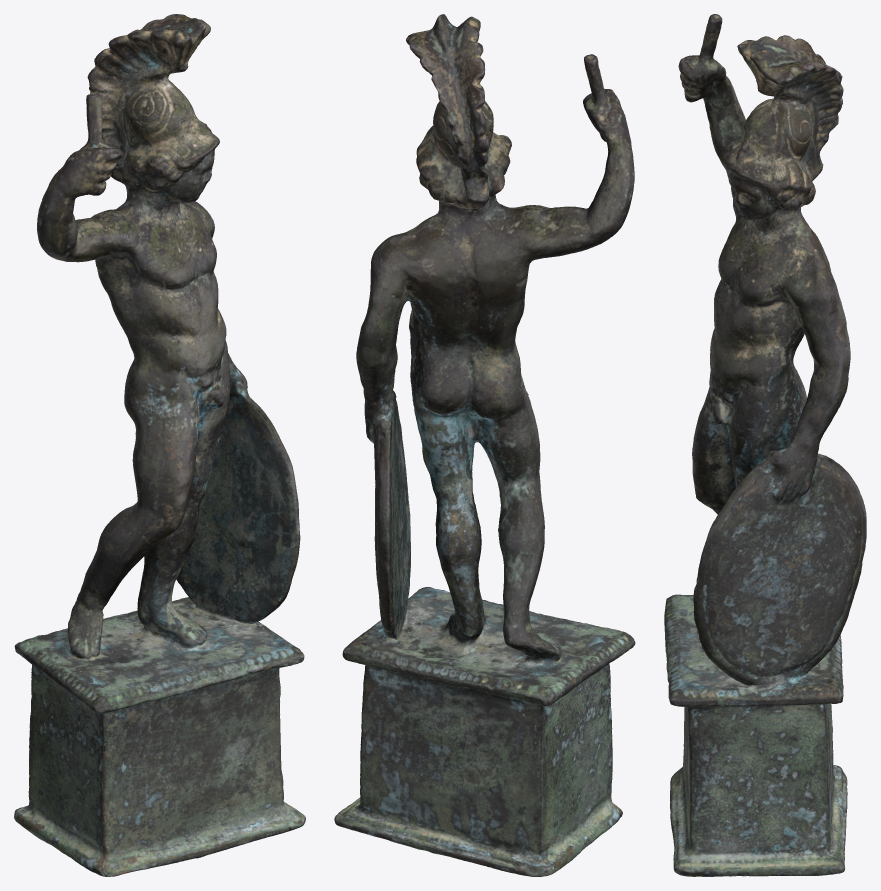
3 views of the same model, side by side, from view 1: azimuth 30°, elevation 25°; view 2: azimuth 150°, elevation 25°; view 3: azimuth 270°, elevation 25° (orthographic).
Parts seen in each view (by area): view 1: Object_6, Object_4, Object_3, Object_5, Object_2, Object_7; view 2: Object_2, Object_3, Object_5, Object_4, Object_7, Object_6; view 3: Object_6, Object_2, Object_4, Object_3, Object_5, Object_7.
Boxes of the visible parts, x1=… form: Object_6: x1=118, y1=375, x2=305, y2=860; Object_4: x1=88, y1=14, x2=229, y2=411; Object_3: x1=14, y1=48, x2=230, y2=876; Object_5: x1=14, y1=32, x2=247, y2=865; Object_2: x1=15, y1=35, x2=256, y2=863; Object_7: x1=102, y1=381, x2=272, y2=652; Object_2: x1=334, y1=35, x2=630, y2=873; Object_3: x1=356, y1=47, x2=635, y2=842; Object_5: x1=343, y1=34, x2=631, y2=876; Object_4: x1=357, y1=14, x2=524, y2=398; Object_7: x1=344, y1=373, x2=533, y2=866; Object_6: x1=342, y1=388, x2=545, y2=848; Object_6: x1=665, y1=405, x2=848, y2=876; Object_2: x1=670, y1=30, x2=866, y2=876; Object_4: x1=709, y1=35, x2=850, y2=423; Object_3: x1=664, y1=14, x2=850, y2=801; Object_5: x1=665, y1=42, x2=866, y2=827; Object_7: x1=696, y1=388, x2=866, y2=841.
Size of the model in its own units: 0.0611 by 0.1882 by 0.0433.
1 material, 1 textured.
